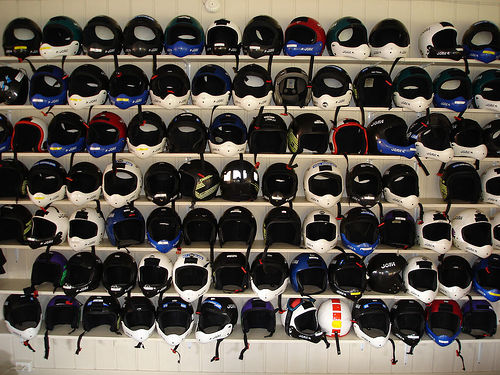helmet: (218, 156, 266, 204), (299, 161, 345, 208), (97, 160, 145, 205), (259, 206, 308, 250), (434, 161, 483, 204), (368, 19, 415, 63), (403, 256, 444, 305), (64, 159, 99, 216), (340, 206, 378, 258), (413, 115, 453, 164), (327, 255, 365, 305), (437, 252, 475, 302), (128, 112, 171, 156), (7, 17, 47, 64), (212, 247, 251, 295), (244, 112, 288, 154), (456, 214, 496, 260), (252, 255, 292, 300), (142, 161, 180, 208), (25, 161, 65, 205), (180, 154, 220, 198), (435, 68, 475, 112), (232, 68, 278, 106), (395, 71, 435, 114), (49, 110, 88, 154), (326, 19, 371, 57), (293, 108, 329, 155), (1, 298, 42, 339), (284, 16, 328, 54), (174, 257, 212, 300), (41, 19, 79, 62), (153, 59, 187, 106), (73, 63, 107, 109), (29, 66, 65, 109), (107, 210, 146, 249), (372, 114, 411, 153), (355, 65, 393, 105), (261, 165, 298, 206), (188, 70, 230, 106), (417, 23, 459, 59), (307, 210, 341, 254), (81, 18, 125, 52), (415, 213, 454, 251), (127, 19, 165, 58), (134, 256, 171, 296), (121, 297, 154, 341), (368, 259, 407, 296), (345, 166, 382, 205), (182, 209, 217, 250), (170, 109, 205, 150), (240, 16, 276, 55), (329, 116, 364, 156), (275, 64, 310, 104), (383, 209, 415, 252), (28, 209, 65, 246), (99, 256, 137, 292), (88, 112, 124, 150), (112, 68, 147, 107), (202, 297, 238, 334), (243, 298, 278, 336), (293, 256, 325, 297), (315, 69, 350, 106), (164, 17, 202, 51), (68, 208, 101, 247), (159, 298, 191, 338), (149, 208, 180, 249), (11, 114, 52, 145), (385, 170, 421, 205), (359, 302, 392, 340), (220, 209, 255, 244), (204, 18, 239, 52), (46, 297, 78, 334), (392, 302, 423, 340), (85, 297, 116, 332), (318, 300, 349, 334), (70, 252, 97, 291), (284, 300, 313, 336), (465, 302, 496, 335), (214, 115, 242, 150), (431, 302, 458, 338), (31, 256, 65, 284)
